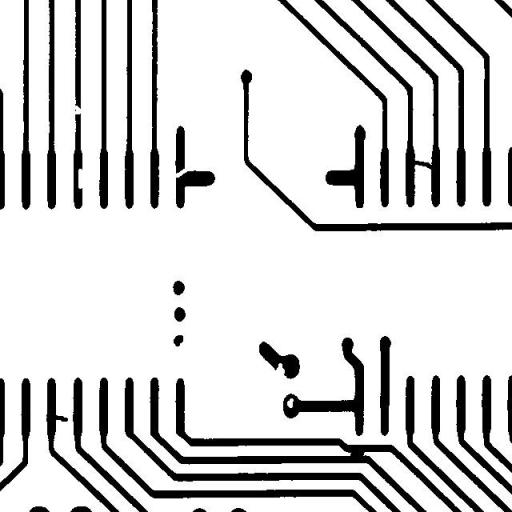copper: (166, 327, 190, 354)
mousebite: (266, 355, 292, 383), (70, 161, 90, 196)
open: (166, 159, 200, 185), (62, 98, 90, 122)
pin-hole: (279, 390, 301, 416)
short: (402, 152, 442, 178), (342, 440, 372, 466)
spur: (46, 407, 75, 429)
